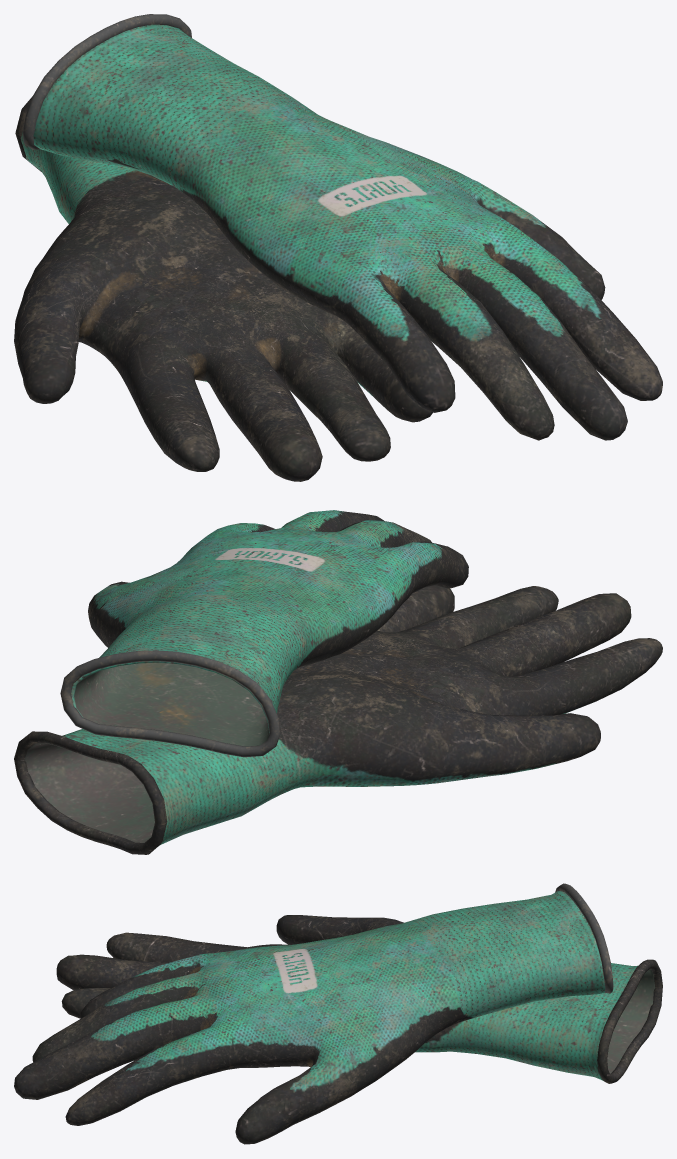
Rendered from garden_gloves_01_4k.fbx.
The picture shows the model from 3 angles, top to bottom: view 1: azimuth 30°, elevation 25°; view 2: azimuth 150°, elevation 25°; view 3: azimuth 270°, elevation 25°; orthographic projection. The views are drawn at different scales.
Visible parts, largest first — view 1: garden_gloves_01; view 2: garden_gloves_01; view 3: garden_gloves_01.
Part boxes in pixels (box(x1,y1,x2,y2)): garden_gloves_01: box(14, 14, 662, 481); garden_gloves_01: box(14, 510, 662, 854); garden_gloves_01: box(14, 883, 662, 1144).
Size of the model in its own units: 22.66 by 7.6 by 29.9.
